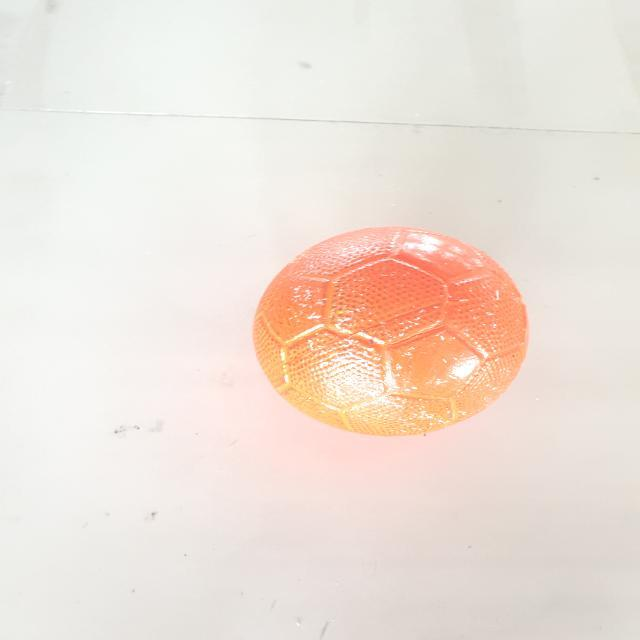bola: (228, 220, 566, 453)
